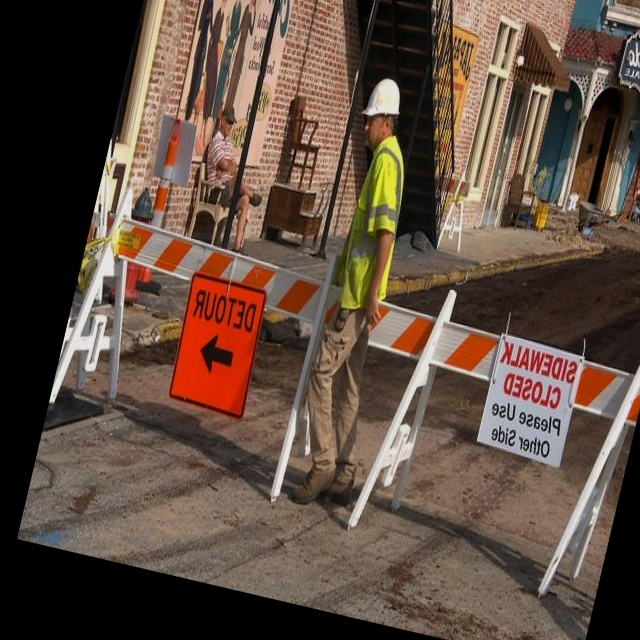Con_Casco: (357, 75, 406, 147)
Con_Chaleco: (329, 138, 418, 319)
